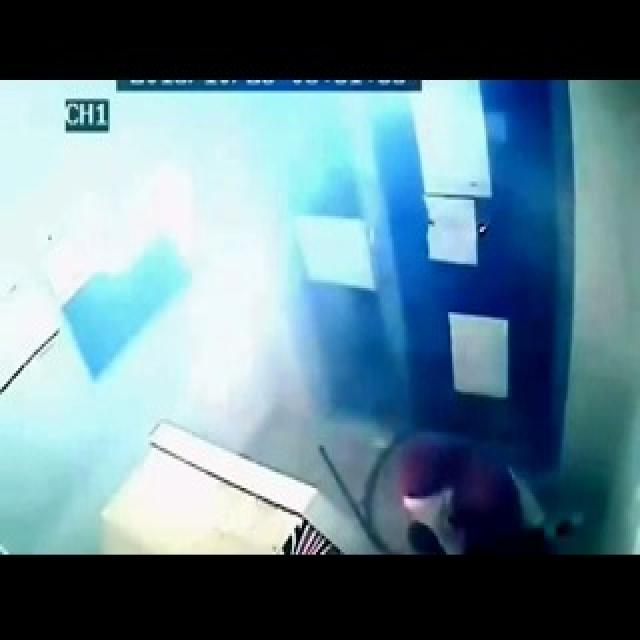thief: (380, 413, 555, 552)
